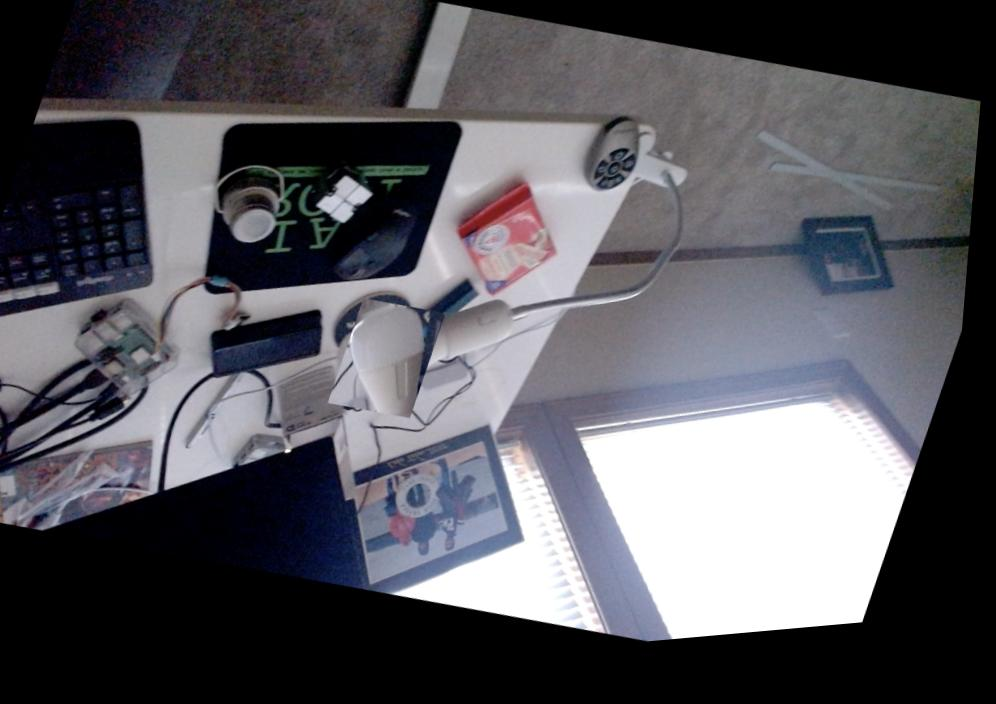Fan: (329, 301, 456, 428)
